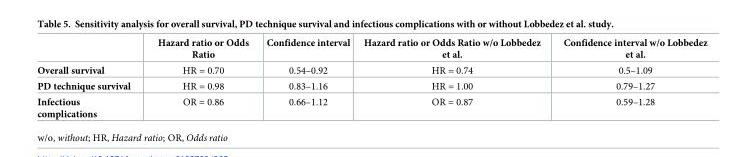table: (36, 37, 706, 118)
table column: (356, 37, 551, 118), (551, 37, 706, 118), (143, 37, 256, 118), (36, 37, 143, 118), (256, 37, 356, 118)
table column header: (36, 37, 706, 62)
table row: (36, 37, 706, 62), (36, 93, 706, 118), (36, 62, 706, 78), (36, 78, 706, 93)
